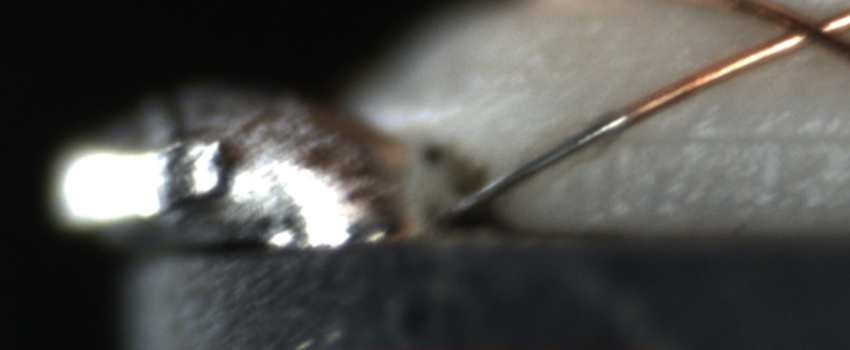CL: (756, 1, 848, 59)
DL: (618, 107, 850, 171)
TS: (449, 112, 629, 216)
